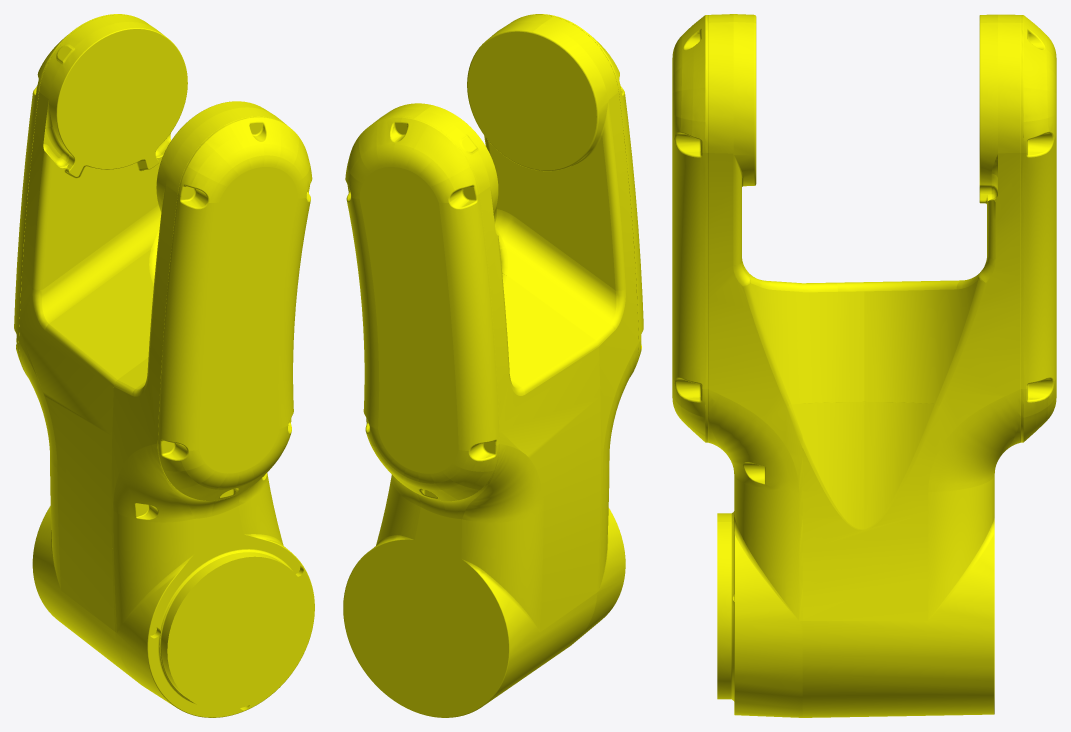
3 renders of one model, left to right at view 1: azimuth 30°, elevation 25°; view 2: azimuth 150°, elevation 25°; view 3: azimuth 270°, elevation 25°, orthographic. The views are drawn at different scales.
Parts seen in each view (by area): view 1: Mesh_0.002; view 2: Mesh_0.002; view 3: Mesh_0.002.
Part boxes in pixels (x1,y1,x2,y2): Mesh_0.002: (14,14,314,717); Mesh_0.002: (343,14,643,717); Mesh_0.002: (672,14,1056,717).
Bounding box in the file's own units: 0.1347 × 0.227 × 0.4471.
